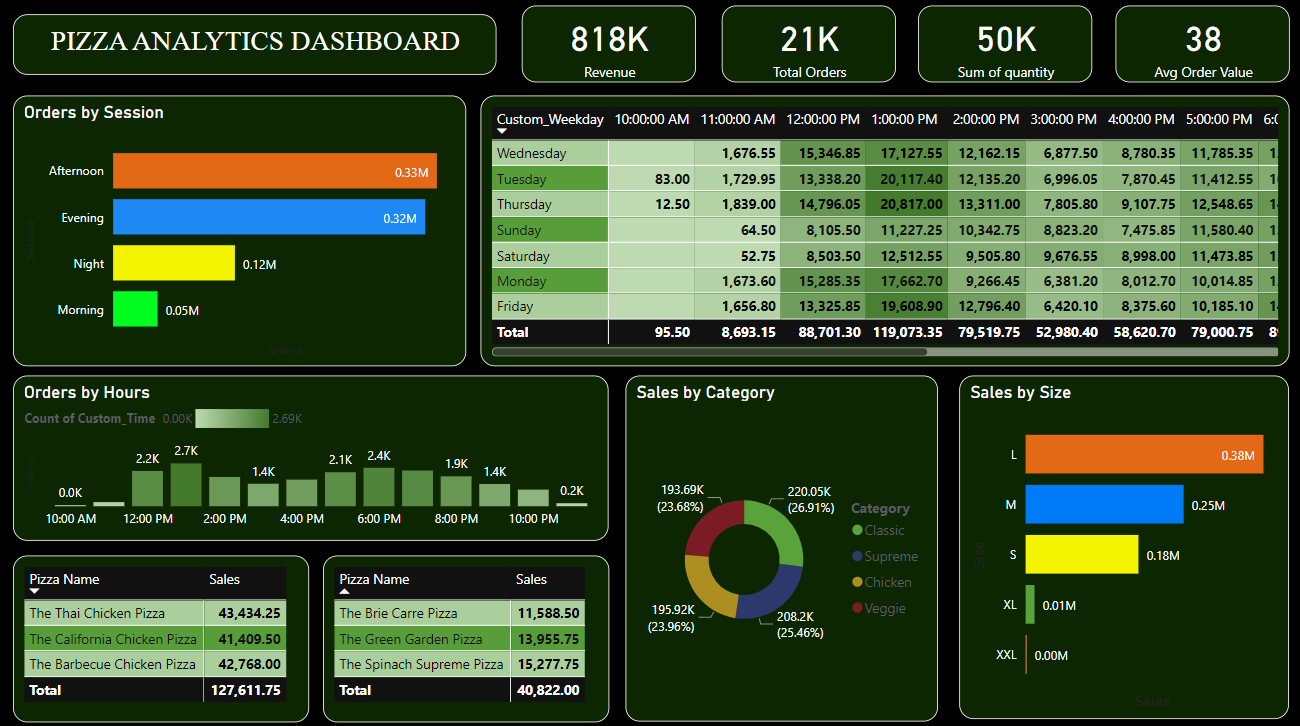

This screenshot's page, from the dashboard's own definition file:
{"tool":"powerbi","page":{"name":"Page 1","canvas":[1280,720],"ordinal":0},"visuals":[{"type":"card","fields":{"Values":["Sum(order_details.Sales)"]},"box":[512.8,12.3,170,75.4],"z":0},{"type":"card","fields":{"Values":["order_details.No of Orders"]},"box":[707.5,12.3,170,75.4],"z":1000},{"type":"card","title":"Pizza Sold","fields":{"Values":["Sum(order_details.quantity)"]},"box":[899.4,12.3,170,75.4],"z":2000},{"type":"donutChart","fields":{"Y":["Sum(order_details.Sales)"],"Category":["pizza_types.category"]},"box":[614.2,374.3,305.7,338.6],"z":3000},{"type":"card","fields":{"Values":["order_details.Avg Order Value"]},"box":[1092.7,12.3,170,75.4],"z":4000},{"type":"pivotTable","fields":{"Columns":["orders.Custom_Time"],"Values":["Sum(order_details.Sales)"],"Rows":["orders.Custom_Weekday"]},"box":[471.6,100.1,791.1,264.6],"z":5000},{"type":"barChart","fields":{"Category":["pizzas.size"],"Y":["Sum(order_details.Sales)"]},"box":[940.5,374.3,322.2,335.9],"z":6000},{"type":"textbox","title":"aaa","box":[15.1,20.6,473,59],"z":7000},{"type":"barChart","fields":{"Y":["Sum(order_details.Sales)"],"Category":["orders.Custom_Timeofday"]},"box":[15.1,100.1,442.8,264.6],"z":8000},{"type":"clusteredColumnChart","fields":{"Category":["orders.Custom_Time"],"Y":["order_details.No of Orders"]},"box":[15.1,374.3,582.7,161.8],"z":9000},{"type":"pivotTable","fields":{"Values":["Sum(order_details.Sales)"],"Rows":["pizza_types.name"]},"box":[15.1,549.8,289.3,163.2],"z":10000},{"type":"pivotTable","fields":{"Values":["Sum(order_details.Sales)"],"Rows":["pizza_types.name"]},"box":[318.1,549.8,279.7,163.2],"z":11000}]}

Visuals, with their boxes in screenshot pixels (x1, y1, x2, y2), scaled from the page's 1280x720 canvas onto the 1300x726 screenshot:
card - Sum(order_details.Sales): pyautogui.locateOnScreen(521, 12, 693, 88)
card - order_details.No of Orders: pyautogui.locateOnScreen(719, 12, 891, 88)
"Pizza Sold" card: pyautogui.locateOnScreen(913, 12, 1086, 88)
donutChart - Sum(order_details.Sales) x pizza_types.category: pyautogui.locateOnScreen(624, 377, 934, 719)
card - order_details.Avg Order Value: pyautogui.locateOnScreen(1110, 12, 1282, 88)
pivotTable - orders.Custom_Time x Sum(order_details.Sales): pyautogui.locateOnScreen(479, 101, 1282, 368)
barChart - pizzas.size x Sum(order_details.Sales): pyautogui.locateOnScreen(955, 377, 1282, 716)
"aaa" textbox: pyautogui.locateOnScreen(15, 21, 496, 80)
barChart - Sum(order_details.Sales) x orders.Custom_Timeofday: pyautogui.locateOnScreen(15, 101, 465, 368)
clusteredColumnChart - orders.Custom_Time x order_details.No of Orders: pyautogui.locateOnScreen(15, 377, 607, 541)
pivotTable - Sum(order_details.Sales) x pizza_types.name: pyautogui.locateOnScreen(15, 554, 309, 719)
pivotTable - Sum(order_details.Sales) x pizza_types.name: pyautogui.locateOnScreen(323, 554, 607, 719)
